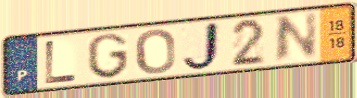2: (230, 17, 267, 69)
G: (86, 31, 131, 80)
J: (179, 20, 224, 73)
L: (43, 38, 80, 86)
N: (271, 10, 319, 66)
O: (133, 27, 177, 76)
